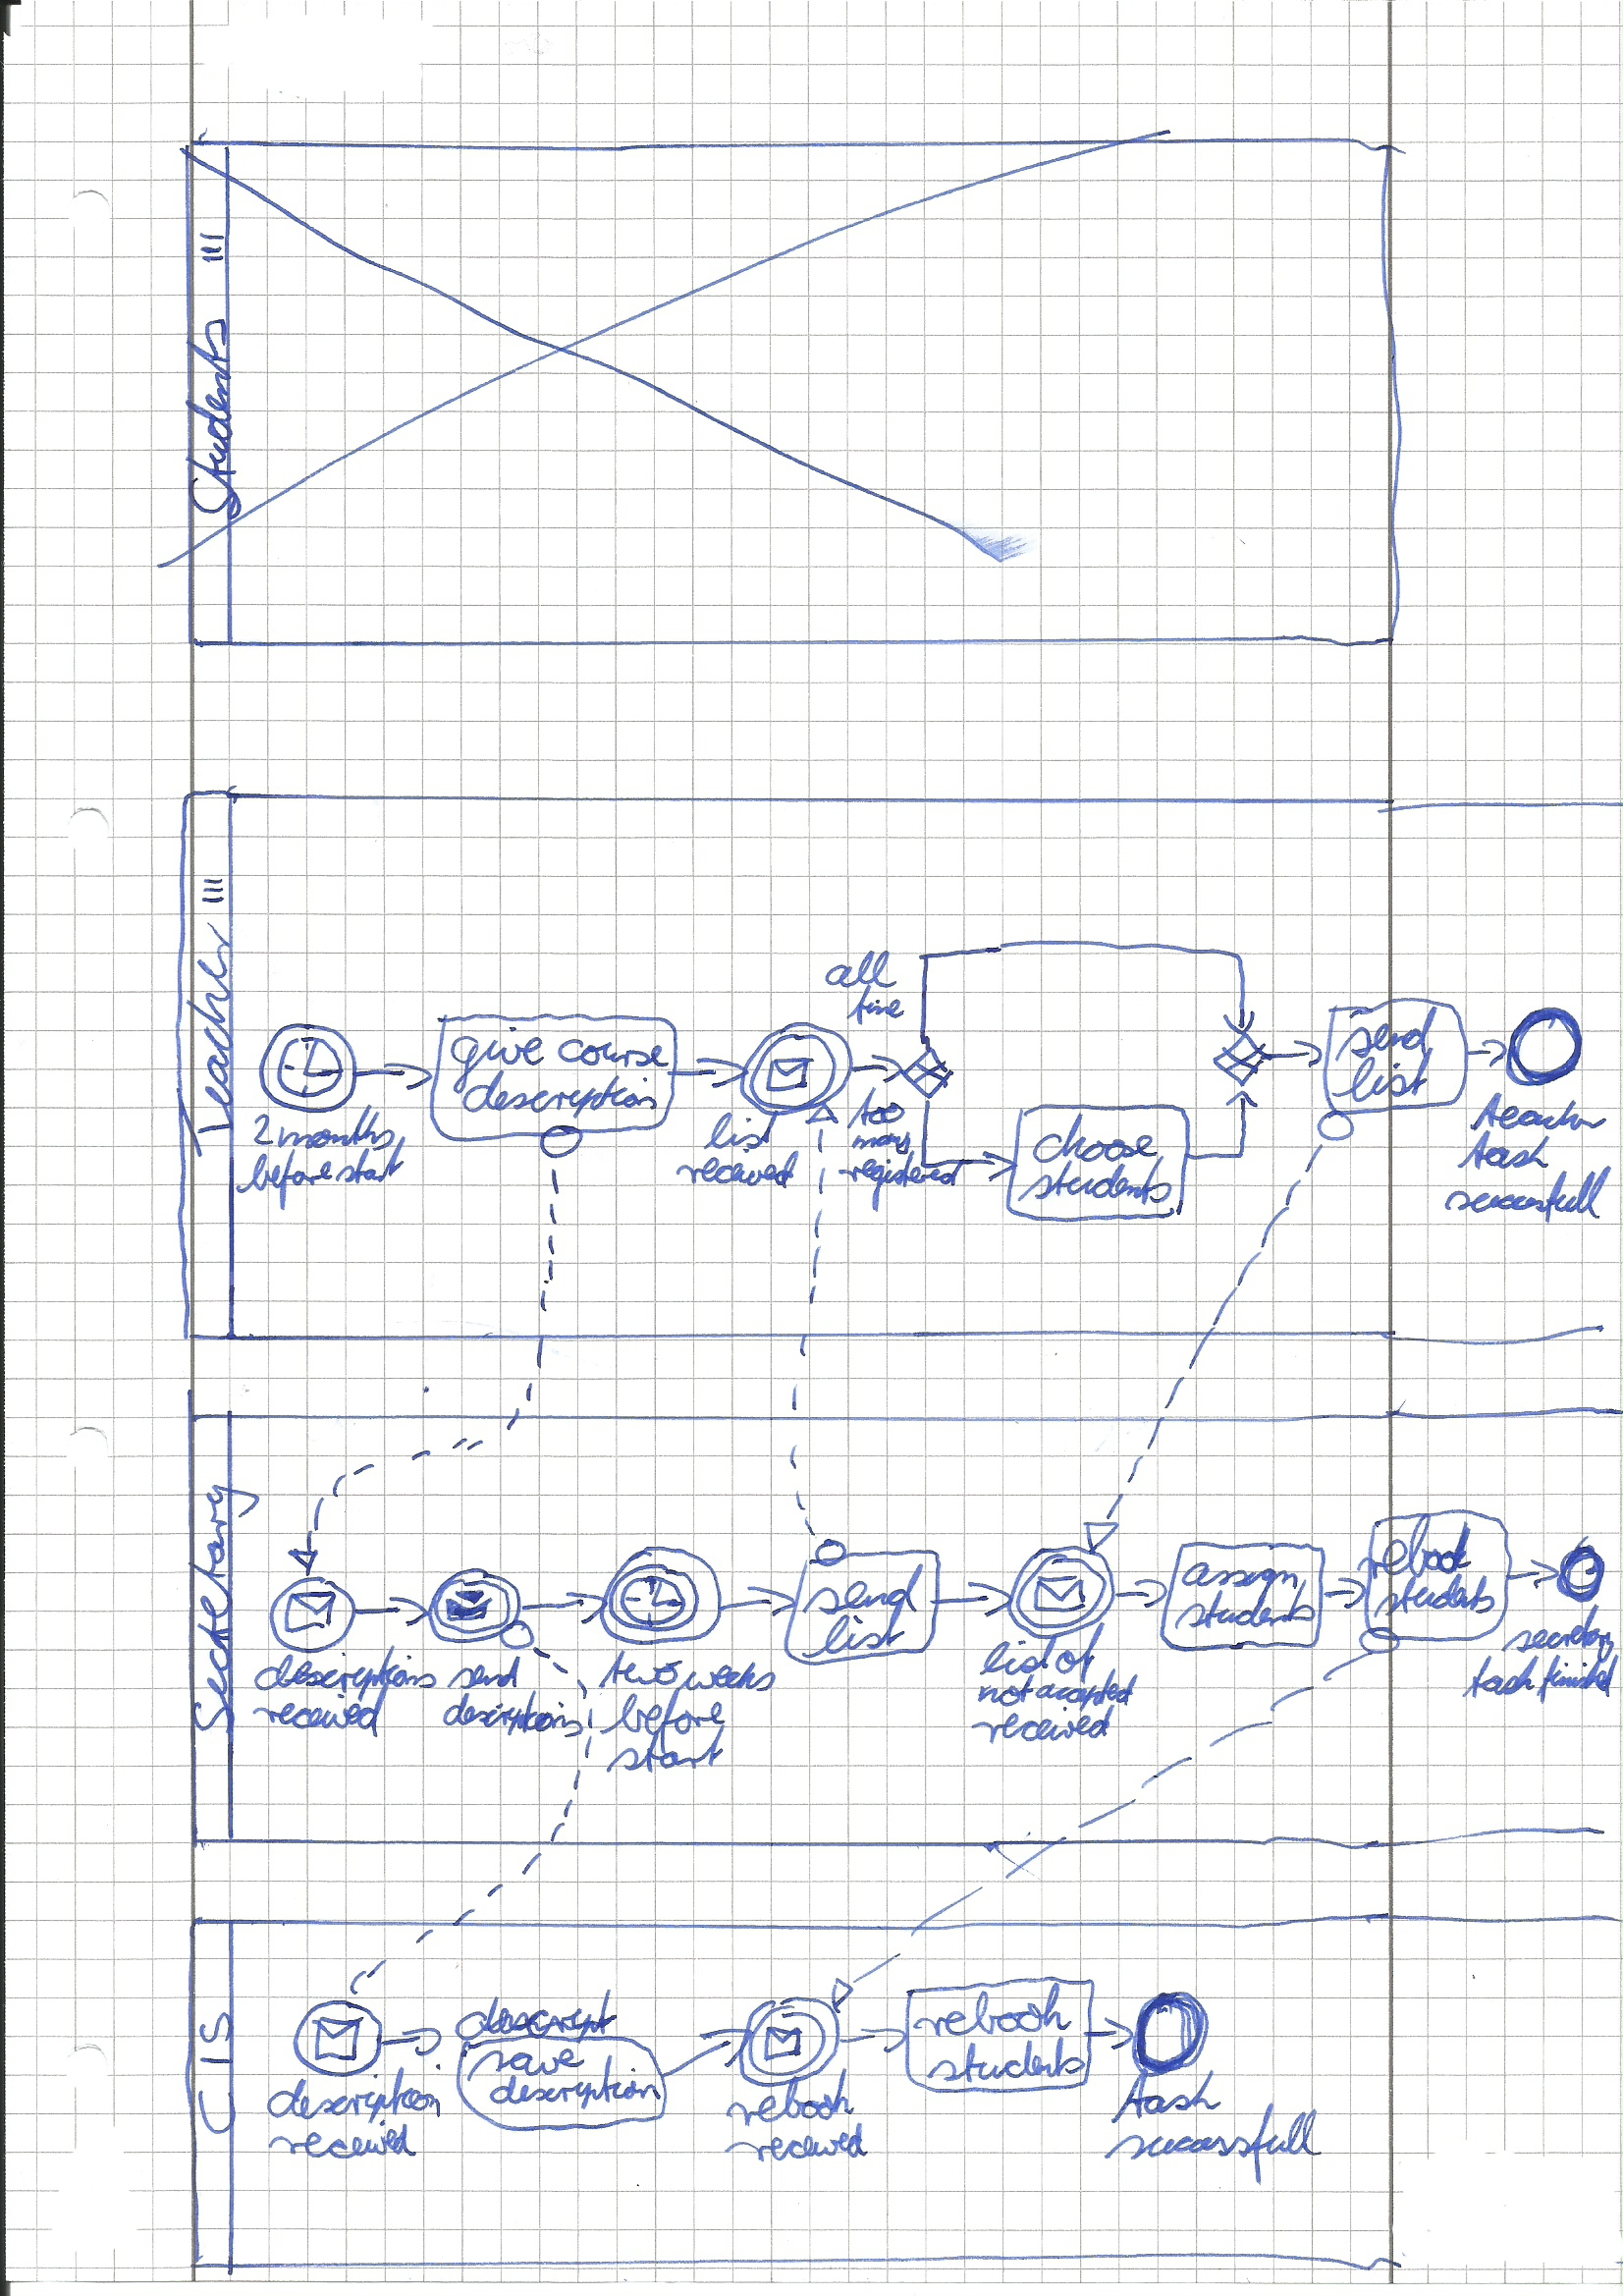2: (247, 1102, 274, 1149)
CIS: (196, 2006, 234, 2133)
IlI: (200, 872, 232, 907)
accepted: (1033, 1671, 1141, 1711)
all: (824, 951, 896, 993)
assign: (1182, 1548, 1299, 1593)
before: (599, 1688, 726, 1738), (239, 1151, 333, 1209)
choose: (1032, 1117, 1156, 1161)
course: (553, 1037, 670, 1073)
description: (462, 1068, 665, 1115), (267, 2068, 438, 2120), (490, 2076, 664, 2111)
descriptions: (252, 1644, 436, 1693), (443, 1692, 586, 1739)
fine: (847, 986, 907, 1028)
finished: (1537, 1651, 1619, 1702)
give: (448, 1028, 544, 1079)
list: (804, 1608, 906, 1655), (1332, 1052, 1432, 1099), (703, 1109, 782, 1153), (979, 1634, 1057, 1673)
many: (846, 1124, 915, 1156)
months: (279, 1111, 396, 1150)
not: (975, 1677, 1038, 1711)
of: (1058, 1622, 1102, 1678)
rebook: (915, 1984, 1074, 2037), (1358, 1516, 1474, 1580), (727, 2070, 856, 2124)
received: (726, 2119, 869, 2166), (251, 1691, 389, 1734), (967, 1707, 1116, 1746), (273, 2122, 417, 2161), (676, 1148, 800, 1188)
registered: (838, 1153, 966, 1210)
save: (470, 2047, 584, 2081)
secondary: (1502, 1607, 1615, 1656)
secretary: (189, 1483, 260, 1734)
send: (806, 1565, 923, 1613), (1333, 1014, 1439, 1064), (451, 1655, 519, 1689)
start: (604, 1729, 727, 1771), (336, 1140, 406, 1184)
students: (1017, 1158, 1173, 1205), (925, 2037, 1085, 2082), (1175, 1585, 1320, 1633), (1379, 1574, 1494, 1617)
succesfull: (1445, 1169, 1613, 1225)
successfull: (1106, 2109, 1319, 2184)
task: (1111, 2070, 1219, 2124), (1459, 1130, 1550, 1175)
teach: (1464, 1656, 1537, 1704)
teacher: (189, 924, 233, 1138), (1473, 1091, 1608, 1130)
too: (849, 1088, 905, 1125)
two: (599, 1648, 681, 1689)
weeks: (684, 1662, 777, 1689)
